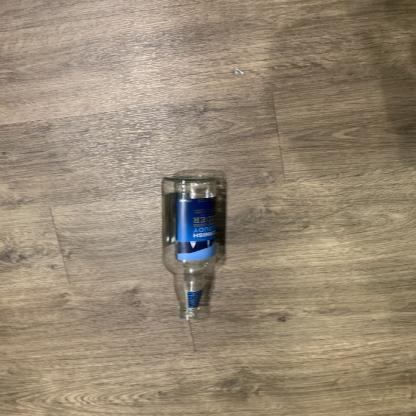trash: (158, 175, 228, 323)
